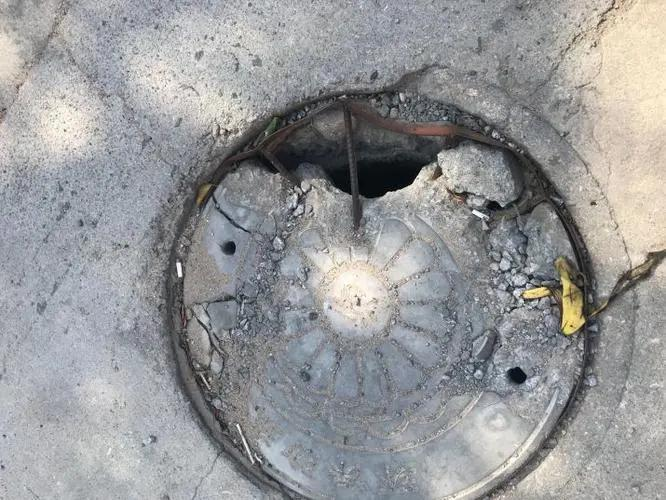wellcover: (160, 96, 618, 500)
